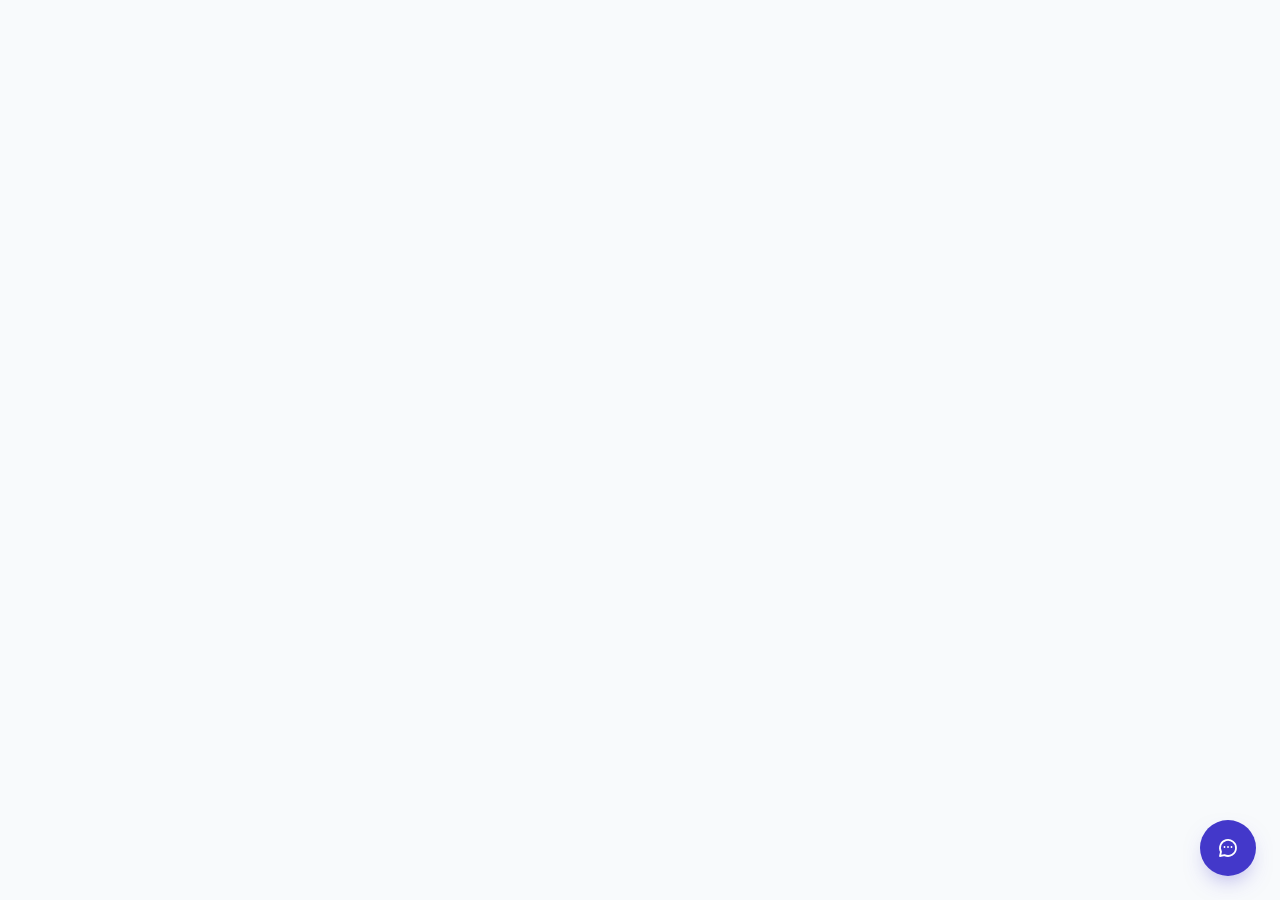
Scenario: HTTP 503 service_unavailable shows a clear message
Click the button named "Ask PortfolioAI about Irfan's work" at (1228, 848), box left=1200, top=820, right=1256, bottom=876
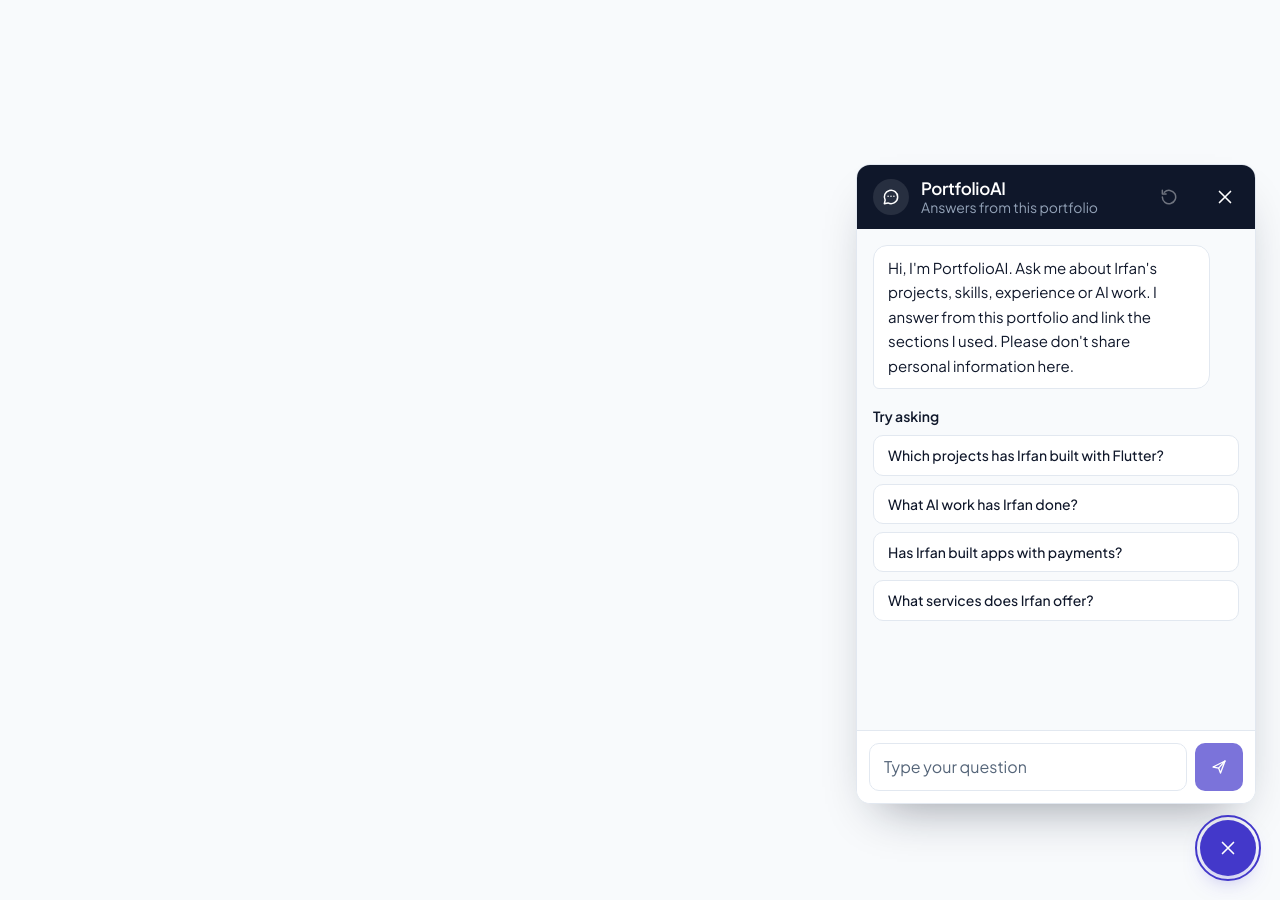
Type "Question" into the text box labelled "your question" at (1028, 767), box left=869, top=743, right=1187, bottom=791
Then press Enter
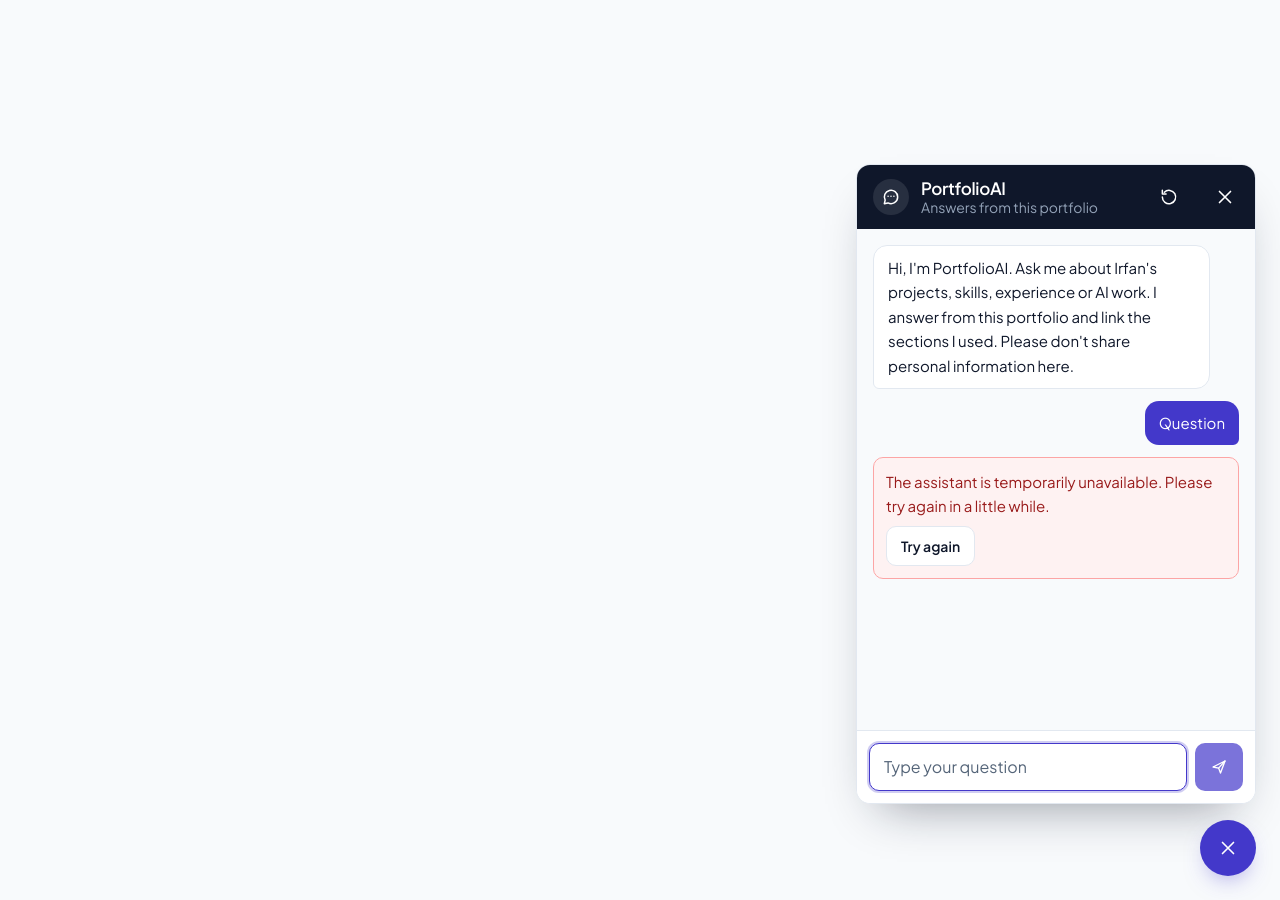
Now the text "The assistant is temporarily unavailable. Please try again in a little while." is shown, box left=886, top=470, right=1226, bottom=518
